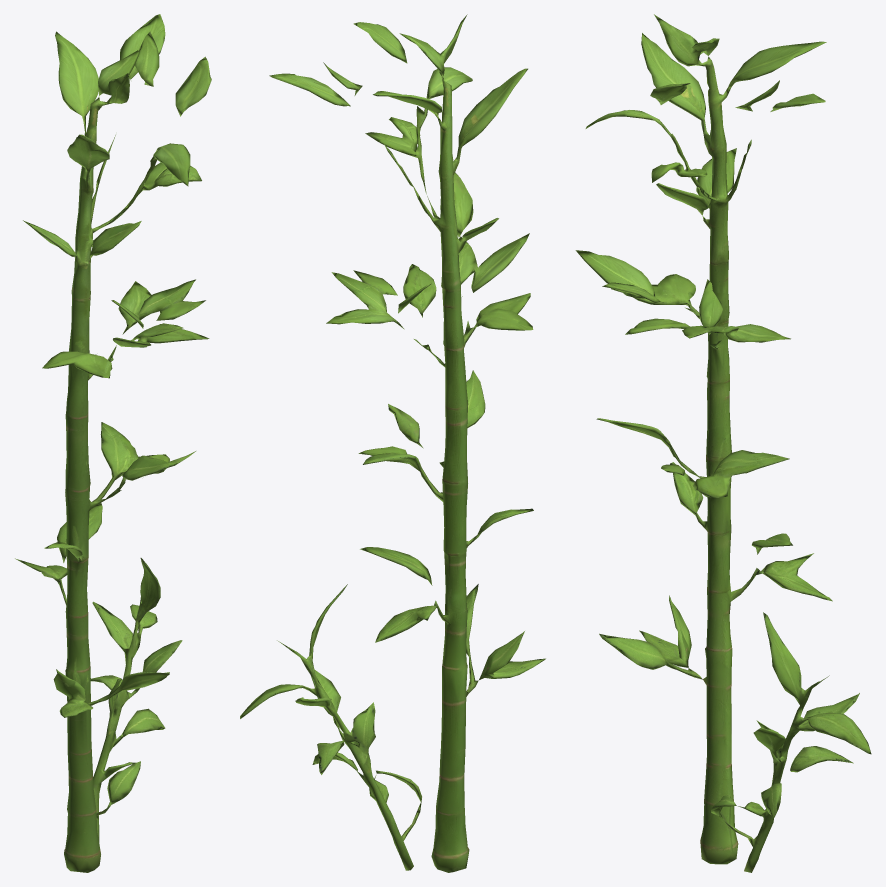
The model's file is Meshy_AI_A_single_stylized_lo_0308105543_texture.fbx.
3 renders of one model, left to right at view 1: azimuth 30°, elevation 25°; view 2: azimuth 150°, elevation 25°; view 3: azimuth 270°, elevation 25°, orthographic. The views are drawn at different scales.
Visible parts, largest first — view 1: Mesh1.0; view 2: Mesh1.0; view 3: Mesh1.0.
Boxes of the visible parts, left/top/right/bottom form: Mesh1.0: left=15, top=14, right=211, bottom=872; Mesh1.0: left=240, top=14, right=545, bottom=872; Mesh1.0: left=575, top=14, right=871, bottom=872.
Size of the model in its own units: 48.3 by 190 by 59.95.
Materials: 1 (1 with a texture image).
